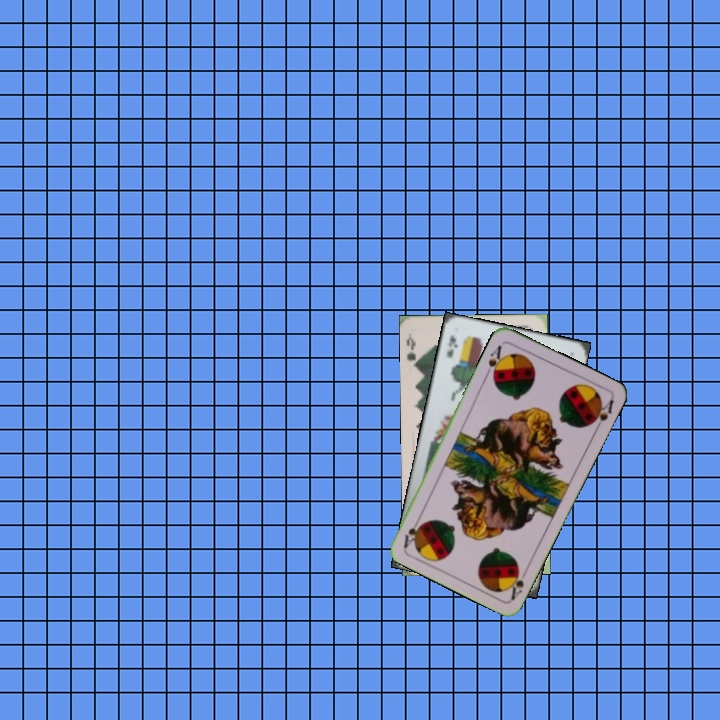EK: (442, 331, 460, 361)
G9: (402, 330, 422, 371)
SA: (503, 562, 531, 603), (482, 341, 507, 381)
